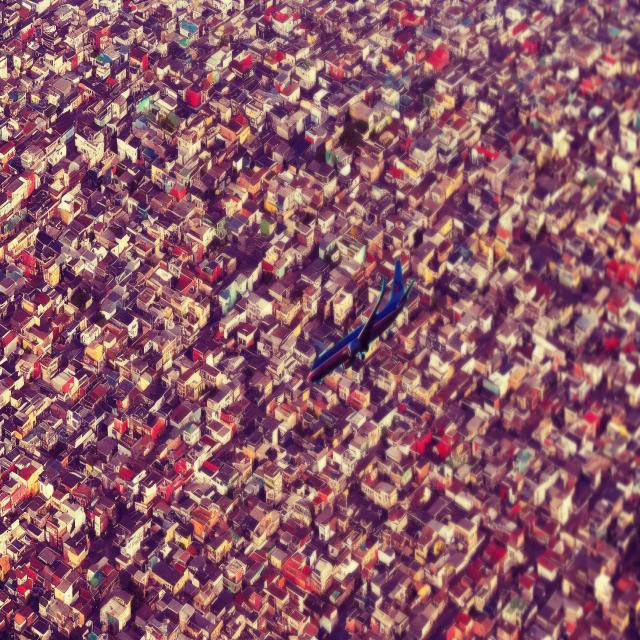airplane: (306, 256, 416, 384)
